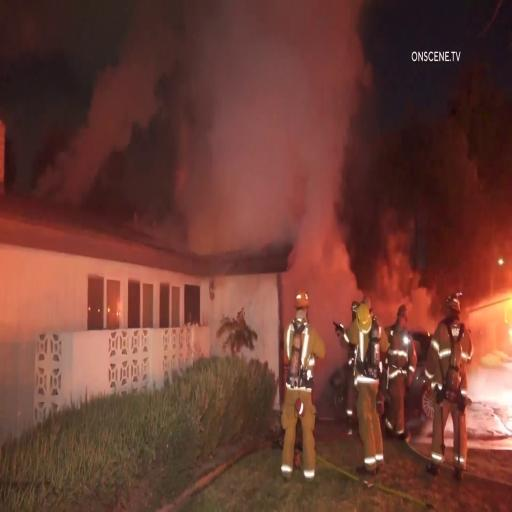smoke: (44, 11, 369, 237), (335, 68, 500, 236), (297, 234, 355, 293)
